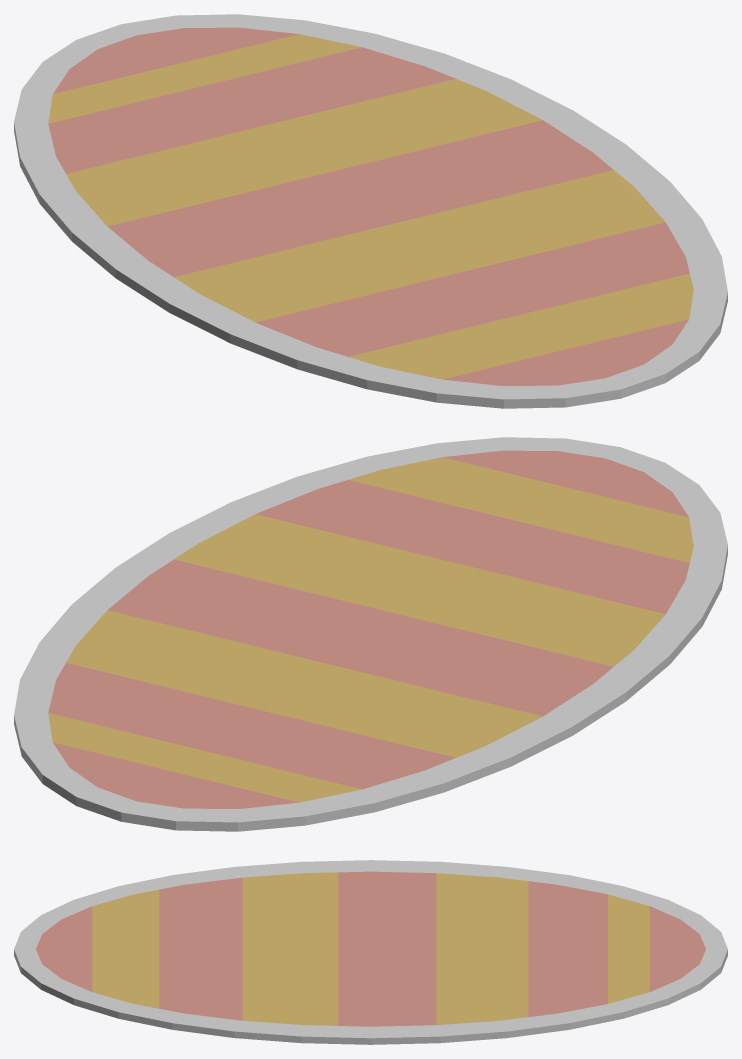
Rendered from rug.fbx.
The picture shows the model from 3 angles, top to bottom: view 1: azimuth 30°, elevation 25°; view 2: azimuth 150°, elevation 25°; view 3: azimuth 270°, elevation 25°; orthographic projection. The views are drawn at different scales.
Visible parts, largest first — view 1: Cylinder; view 2: Cylinder; view 3: Cylinder.
Boxes of the visible parts, x1,y1,x2,y2 form: Cylinder: (14, 14, 727, 408); Cylinder: (14, 437, 727, 831); Cylinder: (14, 860, 727, 1044).
Size of the model in its own units: 200 by 3.46 by 339.
